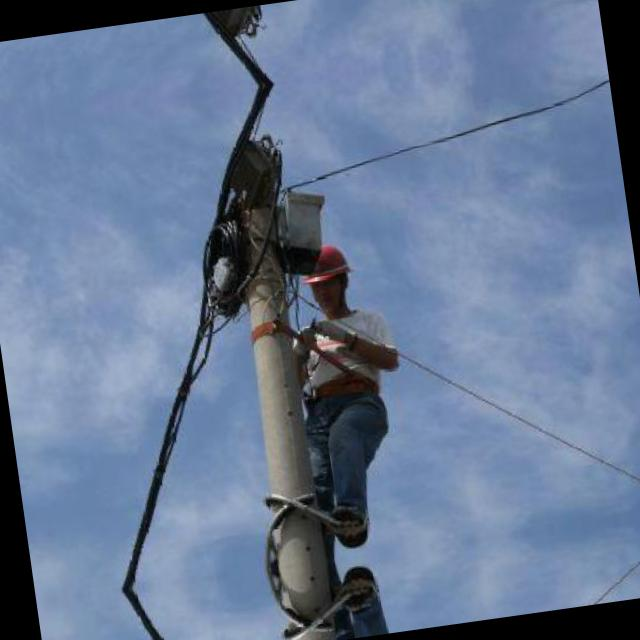helmet: (304, 232, 357, 312)
